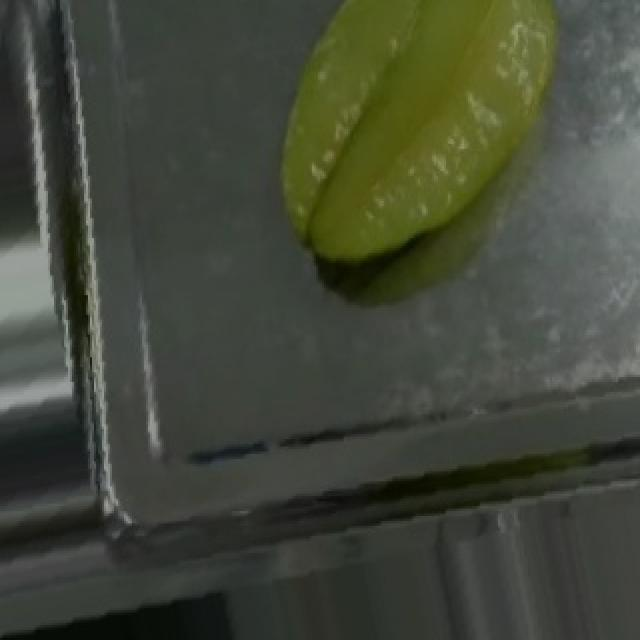fruit: (252, 2, 600, 292)
